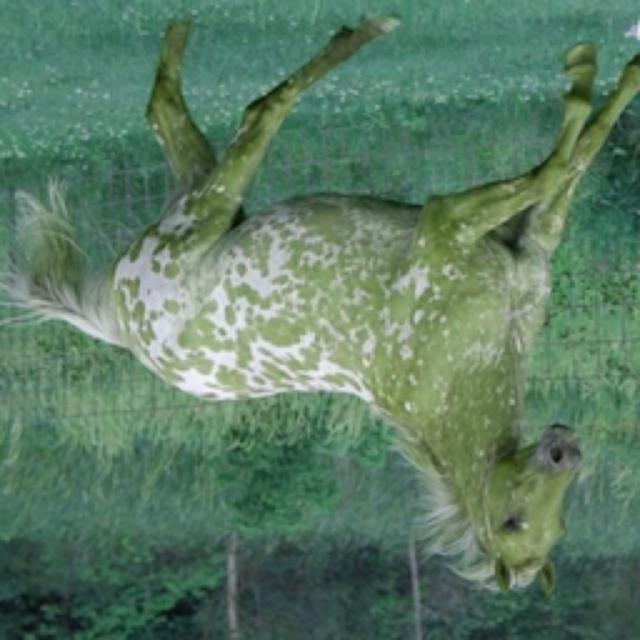Horse: (0, 8, 638, 602)
